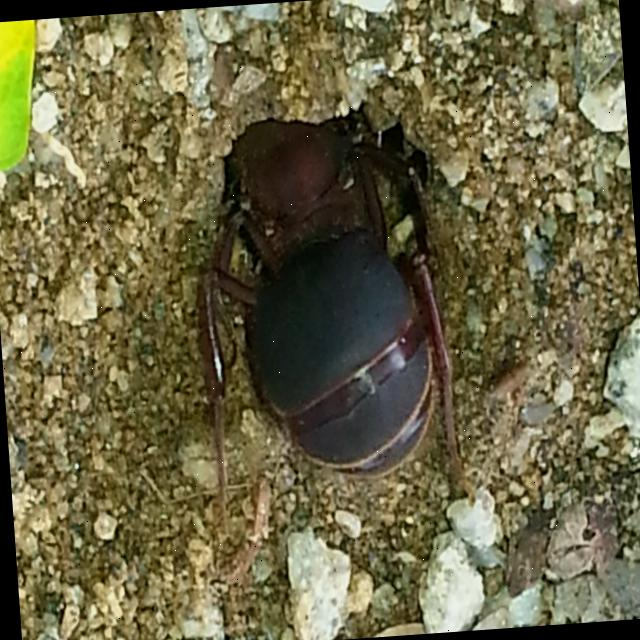Alive-Female-Dealate: (176, 57, 472, 540)
